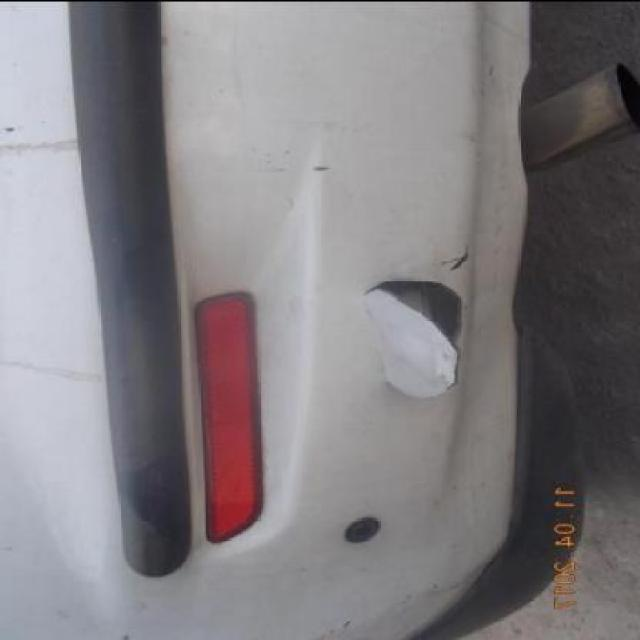damage: (359, 272, 463, 404), (431, 240, 475, 277)
